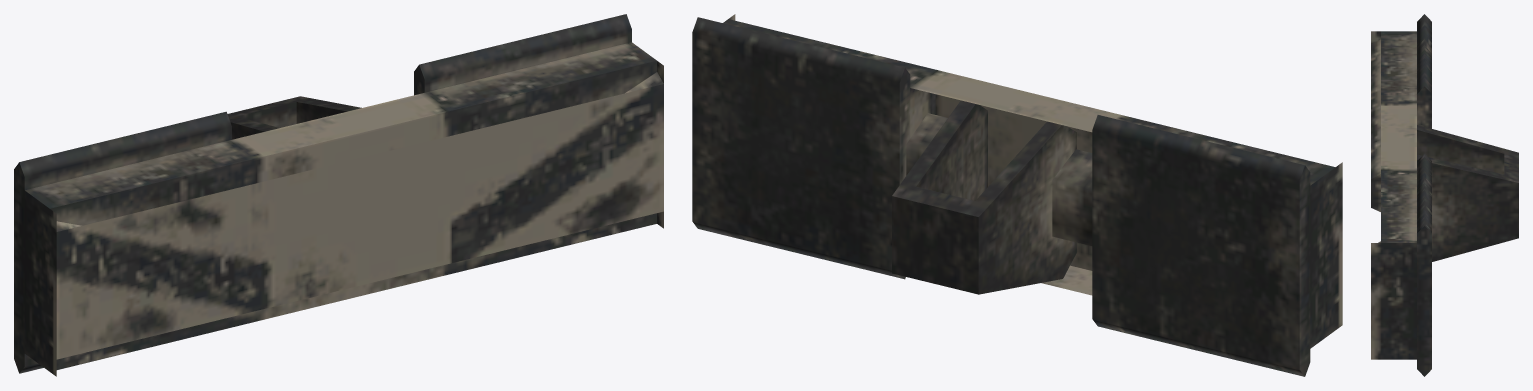
Rendered from segment_pair_0.glb.
The picture shows the model from 3 angles, left to right: view 1: azimuth 30°, elevation 25°; view 2: azimuth 150°, elevation 25°; view 3: azimuth 270°, elevation 25°; orthographic projection. The views are drawn at different scales.
Parts seen in each view (by area): view 1: set_0_group_0; view 2: set_0_group_0; view 3: set_0_group_0.
Boxes of the visible parts, bbox=[...] form: set_0_group_0: bbox=[14, 14, 663, 376]; set_0_group_0: bbox=[692, 14, 1342, 376]; set_0_group_0: bbox=[1371, 14, 1518, 376].
Size of the model in its own units: 0.4102 by 0.1366 by 0.121.
1 material, 1 textured.
